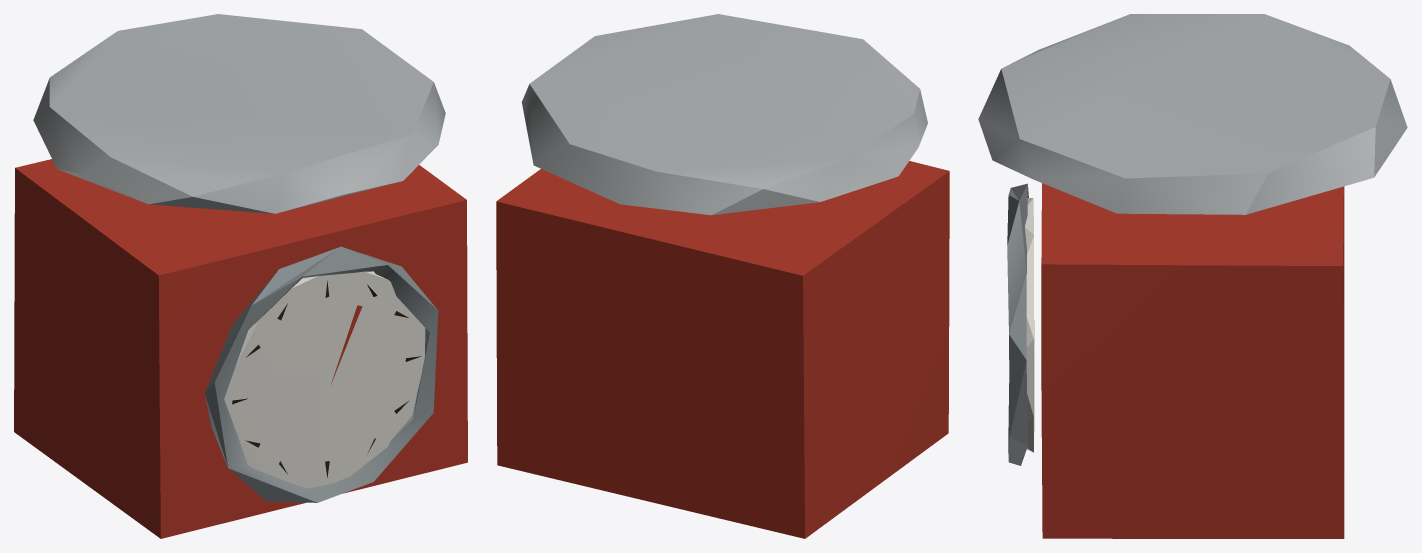
File: can_dia.glb
The picture shows the model from 3 angles, left to right: view 1: azimuth 30°, elevation 25°; view 2: azimuth 150°, elevation 25°; view 3: azimuth 270°, elevation 25°; orthographic projection. The views are drawn at different scales.
Visible parts, largest first — view 1: can_dia; view 2: can_dia; view 3: can_dia.
Part boxes in pixels (<box>): can_dia: <box>14,14,467,538</box>; can_dia: <box>496,14,949,538</box>; can_dia: <box>978,14,1407,538</box>.
Size of the model in its own units: 0.2544 by 0.2423 by 0.2559.
